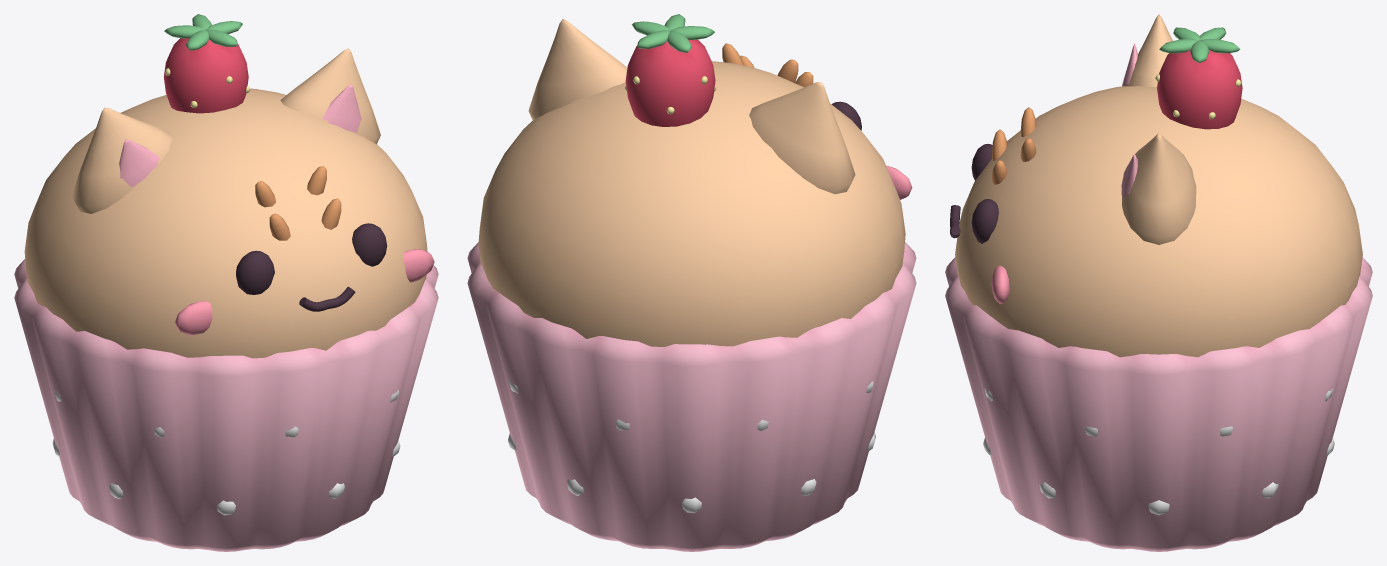
The model's file is kittycupcake.glb.
3 views of the same model, side by side, from view 1: azimuth 30°, elevation 25°; view 2: azimuth 150°, elevation 25°; view 3: azimuth 270°, elevation 25° (orthographic). The views are drawn at different scales.
Visible parts, largest first — view 1: cffd1a6, wrapper, berry_body, c4b3442, cffb3c6, cff9bb0, ce8a06a, c7cc68a, cffffff; view 2: cffd1a6, wrapper, berry_body, c7cc68a, cffffff, ce8a06a; view 3: cffd1a6, wrapper, berry_body, c4b3442, c7cc68a, ce8a06a, cffffff, cffb3c6, cff9bb0.
Boxes of the visible parts, x1=… form: cffd1a6: x1=24, y1=48, x2=427, y2=358; wrapper: x1=14, y1=259, x2=438, y2=551; berry_body: x1=164, y1=38, x2=248, y2=113; c4b3442: x1=236, y1=223, x2=387, y2=311; cffb3c6: x1=119, y1=83, x2=361, y2=187; cff9bb0: x1=175, y1=249, x2=434, y2=334; ce8a06a: x1=255, y1=166, x2=341, y2=240; c7cc68a: x1=164, y1=14, x2=242, y2=50; cffffff: x1=52, y1=390, x2=400, y2=515; cffd1a6: x1=478, y1=19, x2=905, y2=346; wrapper: x1=467, y1=242, x2=916, y2=551; berry_body: x1=625, y1=39, x2=715, y2=126; c7cc68a: x1=631, y1=14, x2=714, y2=52; cffffff: x1=508, y1=380, x2=875, y2=513; ce8a06a: x1=722, y1=43, x2=813, y2=87; cffd1a6: x1=955, y1=14, x2=1362, y2=357; wrapper: x1=945, y1=257, x2=1372, y2=551; berry_body: x1=1157, y1=49, x2=1242, y2=129; c4b3442: x1=950, y1=144, x2=998, y2=243; c7cc68a: x1=1159, y1=27, x2=1240, y2=62; ce8a06a: x1=992, y1=107, x2=1036, y2=184; cffffff: x1=983, y1=388, x2=1334, y2=515; cffb3c6: x1=1121, y1=43, x2=1137, y2=198; cff9bb0: x1=991, y1=265, x2=1009, y2=303.
Size of the model in its own units: 0.5304 by 0.6125 by 0.5243.
